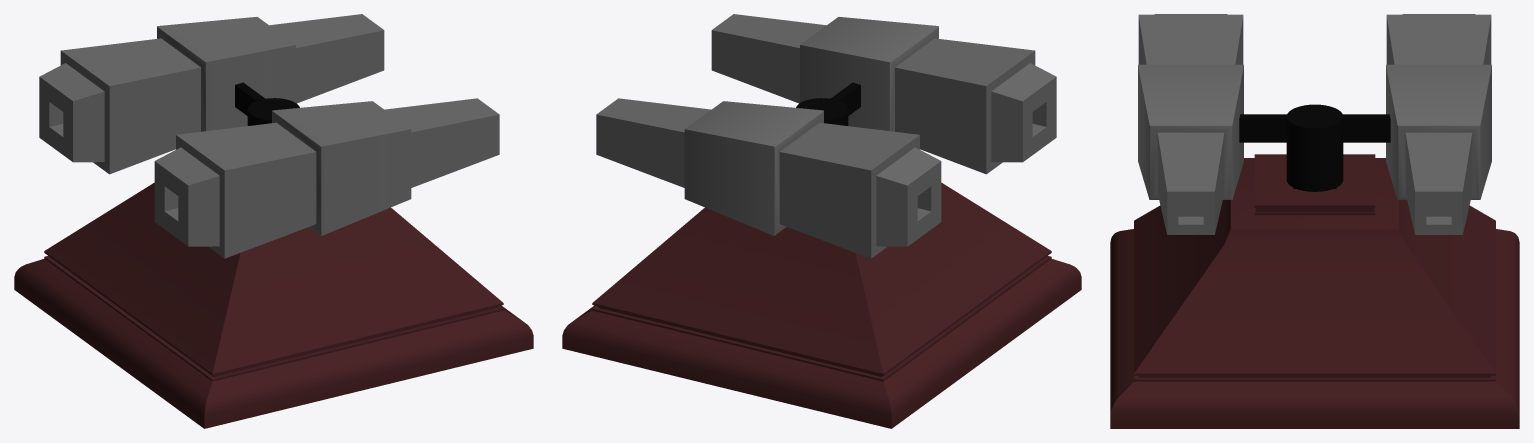
File: Turret.fbx
3 views of the same model, side by side, from view 1: azimuth 30°, elevation 25°; view 2: azimuth 150°, elevation 25°; view 3: azimuth 270°, elevation 25° (orthographic). The views are drawn at different scales.
Parts seen in each view (by area): view 1: Cube, Cube.001, Cylinder; view 2: Cube, Cube.001, Cylinder; view 3: Cube, Cube.001, Cylinder.
Part boxes in pixels (x1,y1,x2,y2): Cube: [14, 182, 533, 428]; Cube.001: [39, 14, 499, 258]; Cylinder: [235, 82, 299, 125]; Cube: [562, 182, 1081, 428]; Cube.001: [596, 14, 1056, 258]; Cylinder: [796, 82, 860, 125]; Cube: [1110, 154, 1519, 428]; Cube.001: [1138, 14, 1491, 234]; Cylinder: [1239, 104, 1390, 191].
Bounding box in the file's own units: 200 × 140 × 200.
